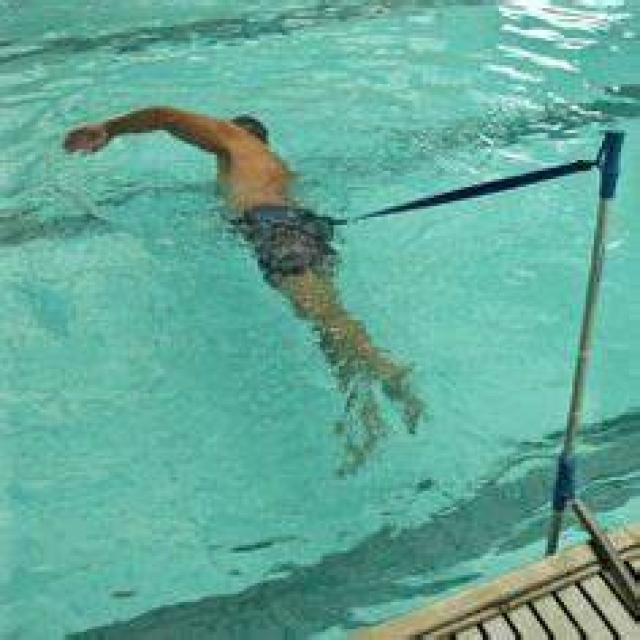swimming: (47, 54, 468, 485)
